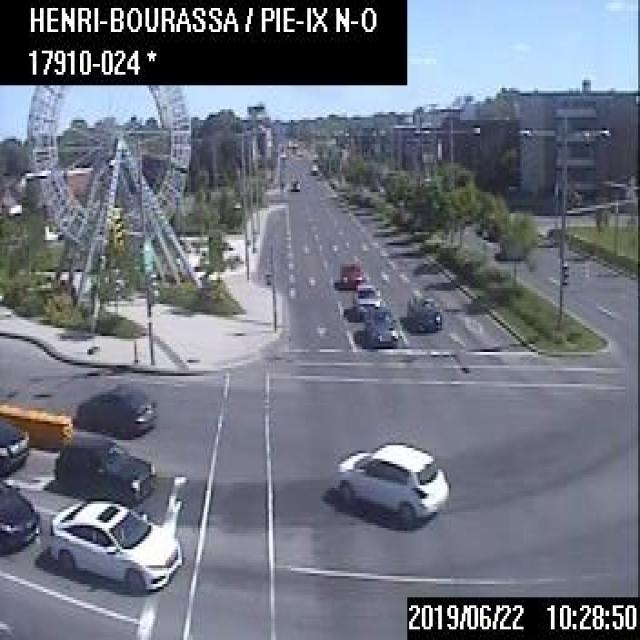vehicle: (45, 498, 184, 594), (335, 438, 449, 526), (53, 432, 154, 500), (76, 384, 154, 429), (0, 477, 40, 552), (405, 288, 442, 331), (0, 418, 27, 474), (364, 304, 398, 347), (352, 282, 380, 316), (339, 260, 362, 287), (287, 176, 298, 189), (309, 161, 317, 174)
